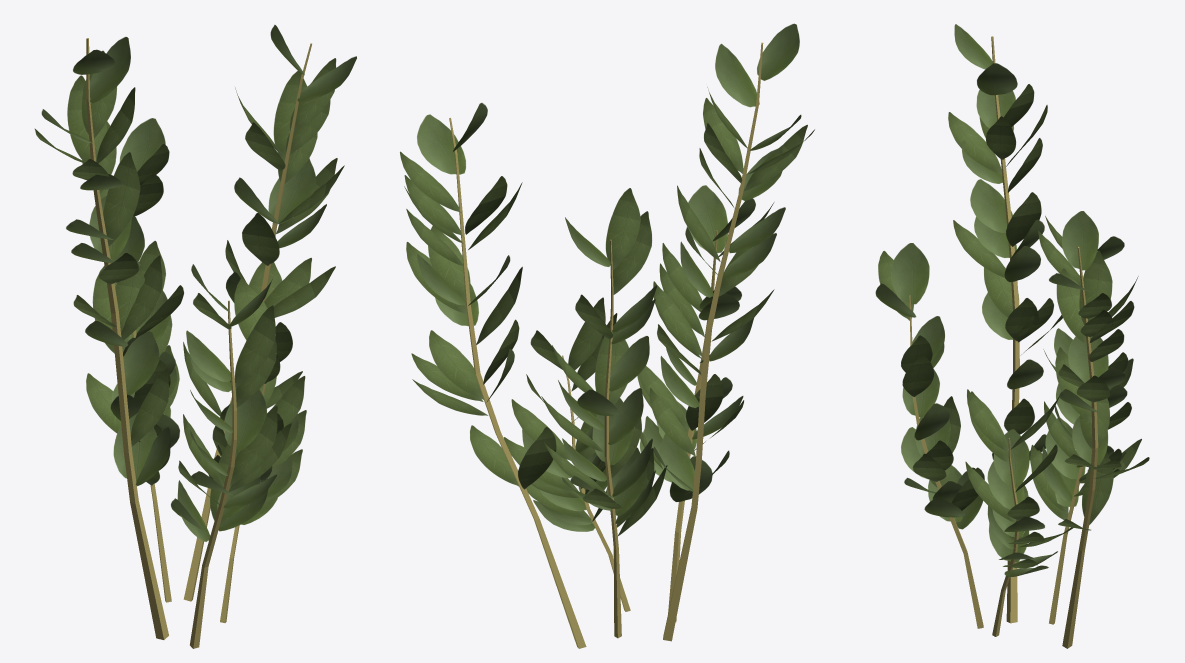
File: ZZ Plant.glb
The picture shows the model from 3 angles, left to right: view 1: azimuth 30°, elevation 25°; view 2: azimuth 150°, elevation 25°; view 3: azimuth 270°, elevation 25°; orthographic projection. The views are drawn at different scales.
Visible parts, largest first — view 1: ZZ Plant; view 2: ZZ Plant; view 3: ZZ Plant.
Boxes of the visible parts, box(x1,y1,x2,y2) form: ZZ Plant: box(35, 25, 356, 648); ZZ Plant: box(400, 23, 814, 648); ZZ Plant: box(875, 24, 1149, 648).
Size of the model in its own units: 0.4352 by 0.6995 by 0.3561.
Materials: 2 (1 with a texture image).
